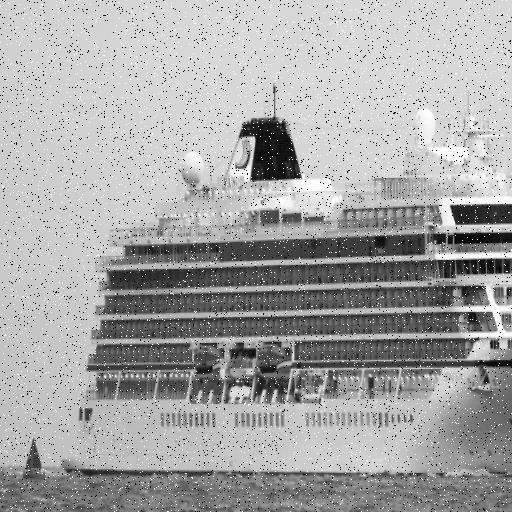cruises: (59, 78, 512, 490)
